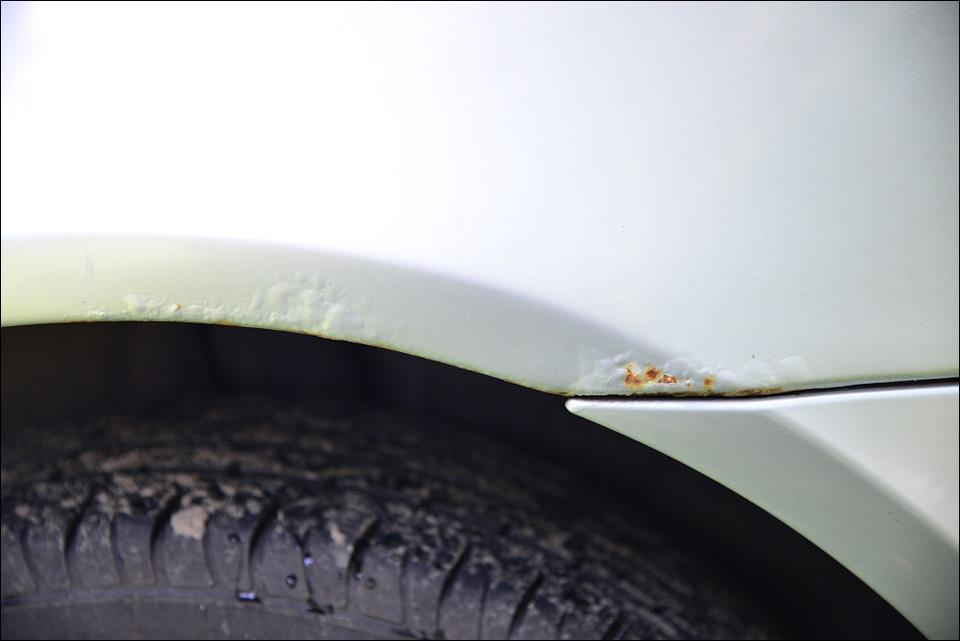corrosion: (567, 346, 811, 397)
